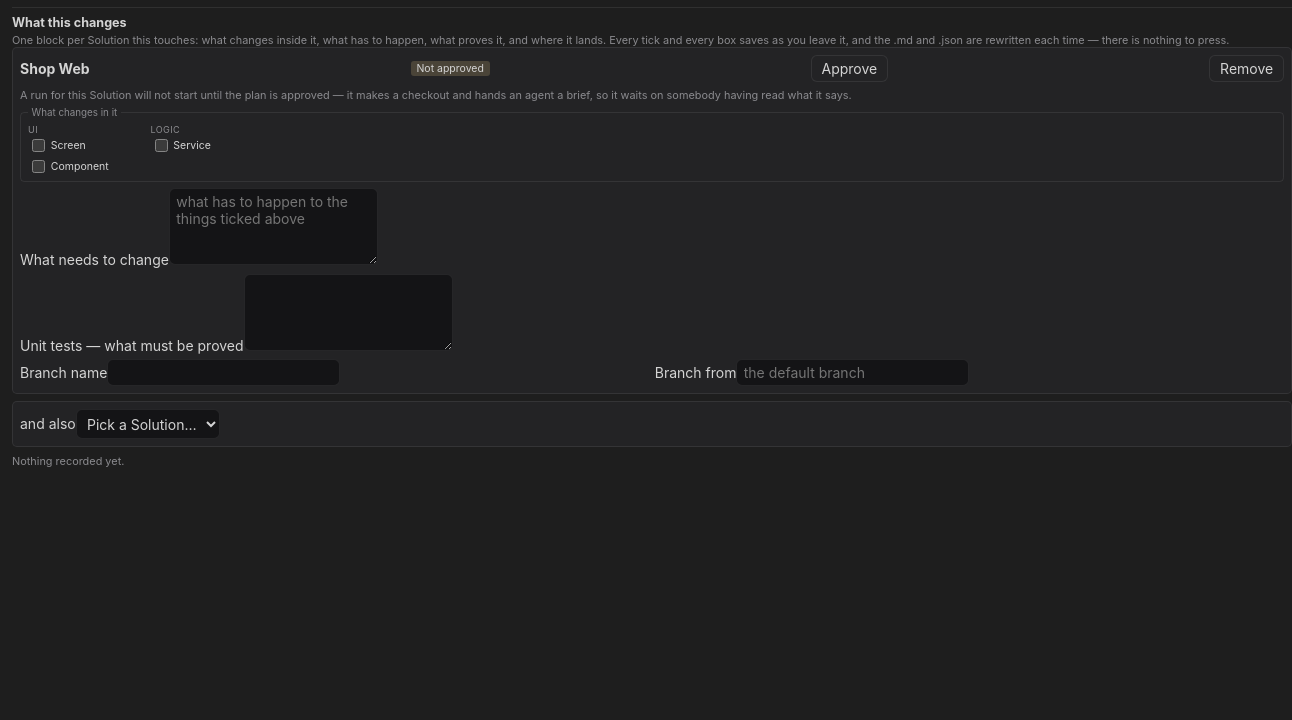
WorkItemChanges — the developer's half › offers UI pictures once a screen or component is ticked
The width and height of the screenshot is (1292, 720).
Expected: the checkbox named "Service changes in Shop Web" is shown, [154,139,168,152]
Click the checkbox named "Screen changes in Shop Web".
click(38, 146)  # box [32,139,45,152]
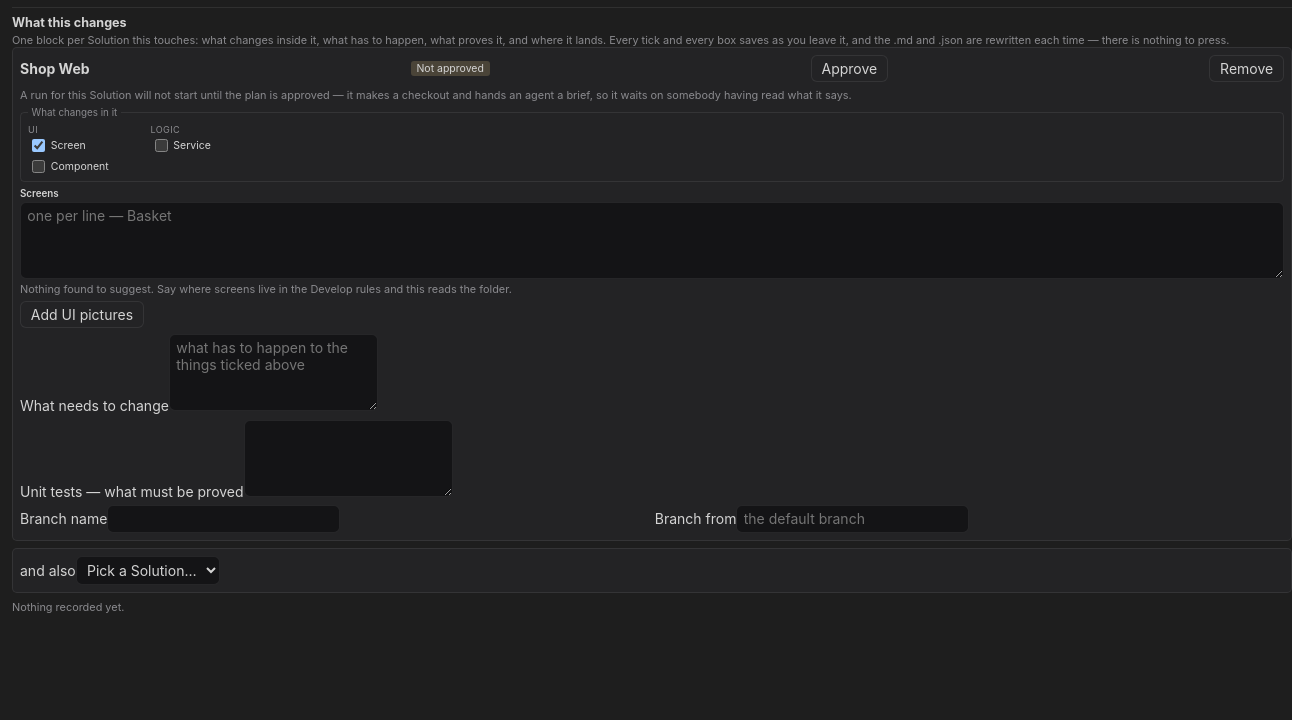
Now the button with aria-label "Add UI pictures for Shop Web" is shown, box [20,301,144,328]
